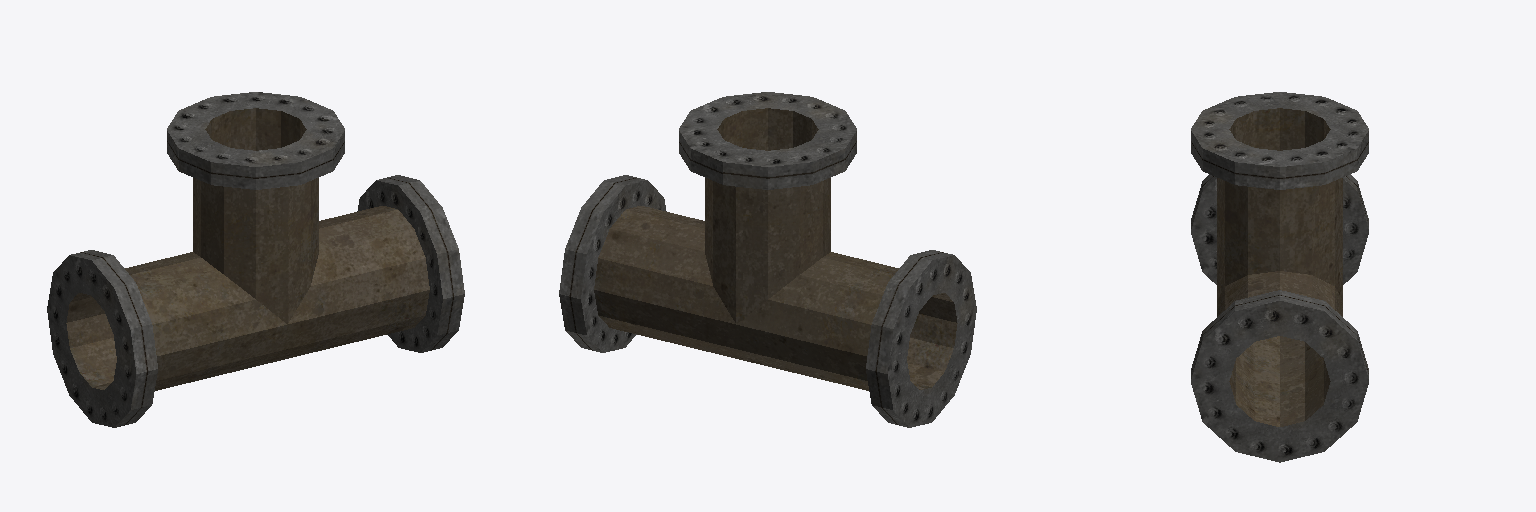
3 views of the same model, side by side, from view 1: azimuth 30°, elevation 25°; view 2: azimuth 150°, elevation 25°; view 3: azimuth 270°, elevation 25° (orthographic).
Visible parts, largest first — view 1: t_piece_open; view 2: t_piece_open; view 3: t_piece_open.
Part boxes in pixels (x1,y1,x2,y2): t_piece_open: (47, 92, 464, 427); t_piece_open: (559, 92, 976, 427); t_piece_open: (1191, 92, 1368, 462).
Size of the model in its own units: 1.5 by 1.1 by 0.7071.
1 materials, 1 textured.